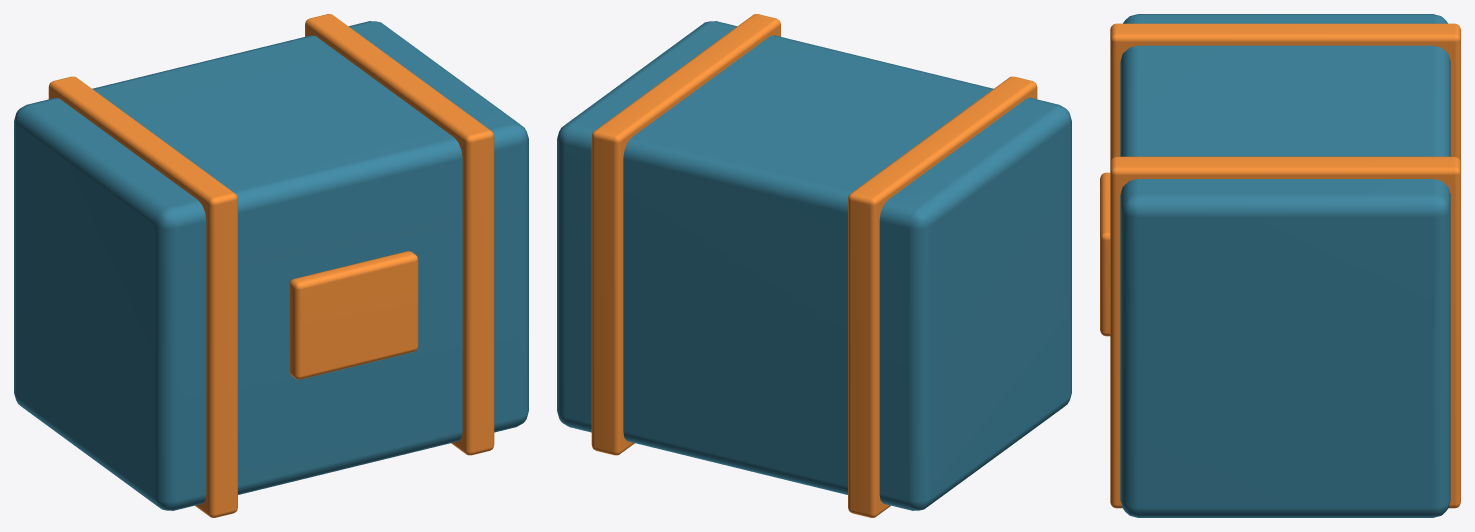
File: setup_crate.glb
The picture shows the model from 3 angles, left to right: view 1: azimuth 30°, elevation 25°; view 2: azimuth 150°, elevation 25°; view 3: azimuth 270°, elevation 25°; orthographic projection. The views are drawn at different scales.
Parts seen in each view (by area): view 1: Test crate body, Reinforcing strap.001, Reinforcing strap, Front panel; view 2: Test crate body, Reinforcing strap.001, Reinforcing strap; view 3: Test crate body, Reinforcing strap.001, Reinforcing strap, Front panel.
Part boxes in pixels (bbox=[...]): Test crate body: bbox=[14, 21, 528, 510]; Reinforcing strap.001: bbox=[305, 14, 494, 455]; Reinforcing strap: bbox=[48, 76, 237, 517]; Front panel: bbox=[289, 251, 418, 379]; Test crate body: bbox=[557, 21, 1071, 510]; Reinforcing strap.001: bbox=[591, 14, 780, 455]; Reinforcing strap: bbox=[848, 76, 1037, 517]; Test crate body: bbox=[1120, 14, 1450, 517]; Reinforcing strap.001: bbox=[1110, 156, 1460, 508]; Reinforcing strap: bbox=[1110, 23, 1460, 162]; Front panel: bbox=[1100, 172, 1110, 336].
Bounding box in the file's own units: 1.8 × 1.48 × 1.42.
